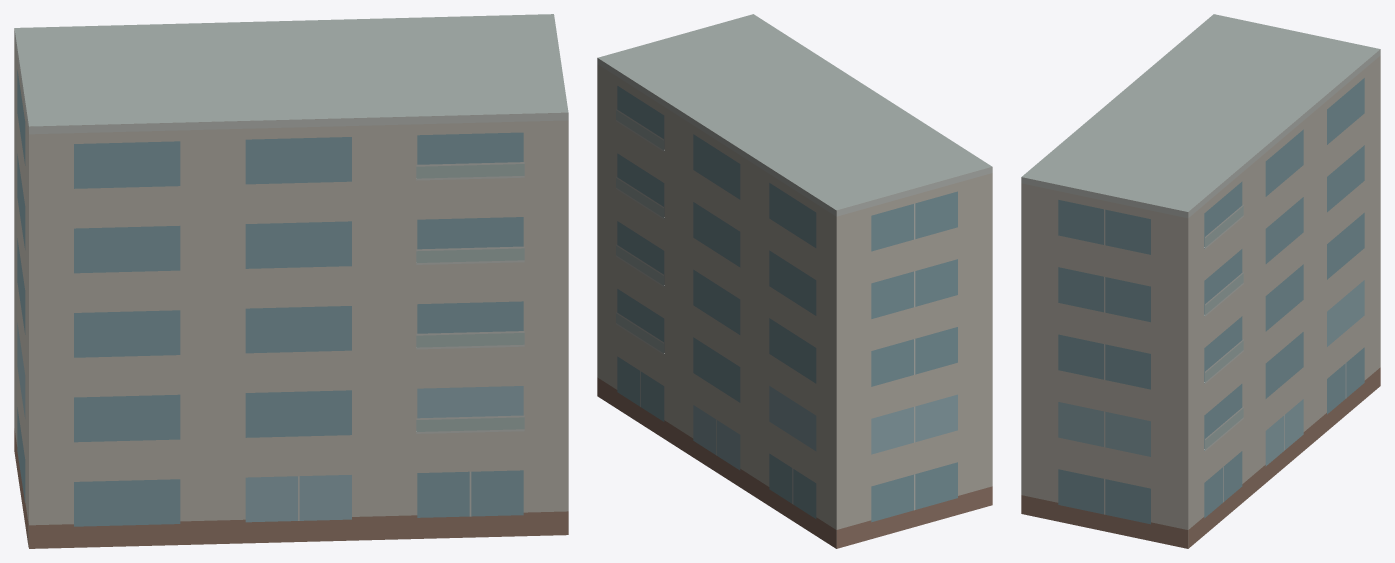
Rendered from survey-upis-32852749.glb.
3 renders of one model, left to right at view 1: azimuth 30°, elevation 25°; view 2: azimuth 150°, elevation 25°; view 3: azimuth 270°, elevation 25°, orthographic. The views are drawn at different scales.
Visible parts, largest first — view 1: survey-upis-32852749.tmp; view 2: survey-upis-32852749.tmp; view 3: survey-upis-32852749.tmp.
Part boxes in pixels (left/top/right/bottom): survey-upis-32852749.tmp: left=14, top=14, right=568, bottom=548; survey-upis-32852749.tmp: left=597, top=14, right=992, bottom=548; survey-upis-32852749.tmp: left=1021, top=14, right=1380, bottom=548.
Bounding box in the file's own units: 16.59 × 13.15 × 12.72.
